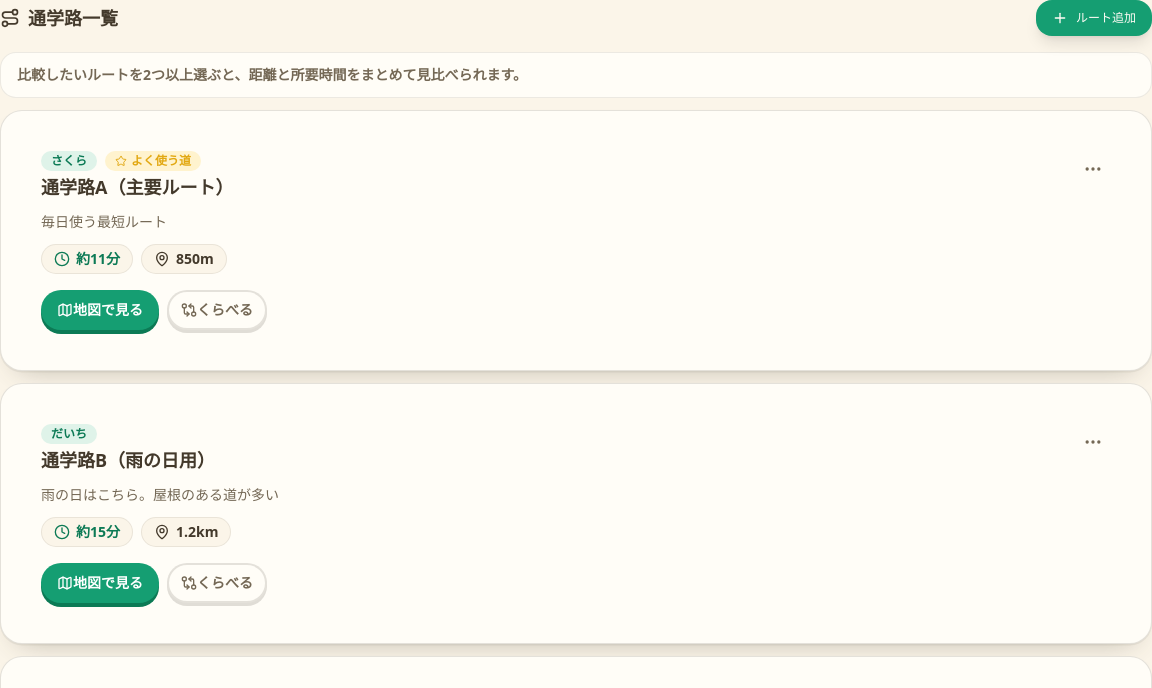
Test: RouteManager Component › Adding Routes › shows instructions for route creation
The width and height of the screenshot is (1152, 688).
Click the button with test id "add-route-button" at coordinates (1094, 18), box [1036, 0, 1151, 36]
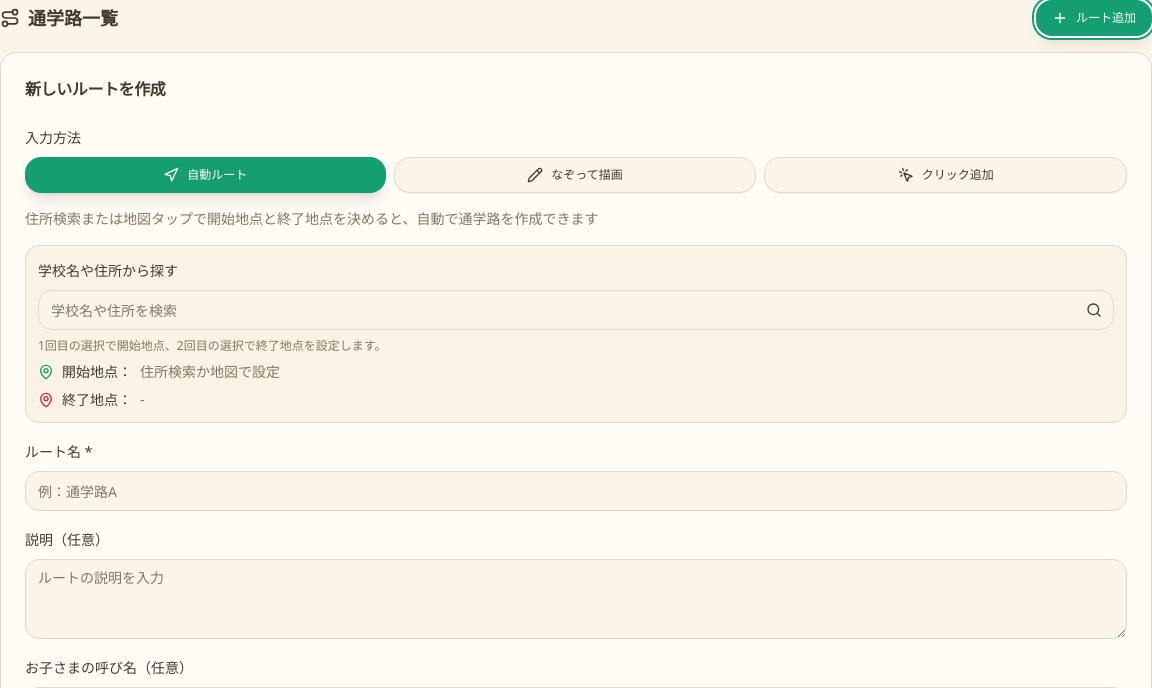
Result: the text "住所検索または地図タップで開始地点と終了地点を決めると、自動で通学路を作成できます" is shown at [25, 209, 598, 228]
